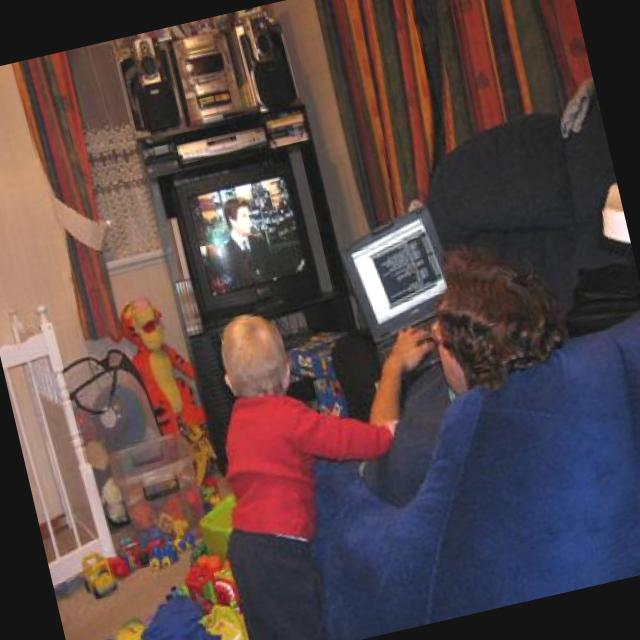Person: (172, 286, 443, 640), (314, 228, 596, 512)
